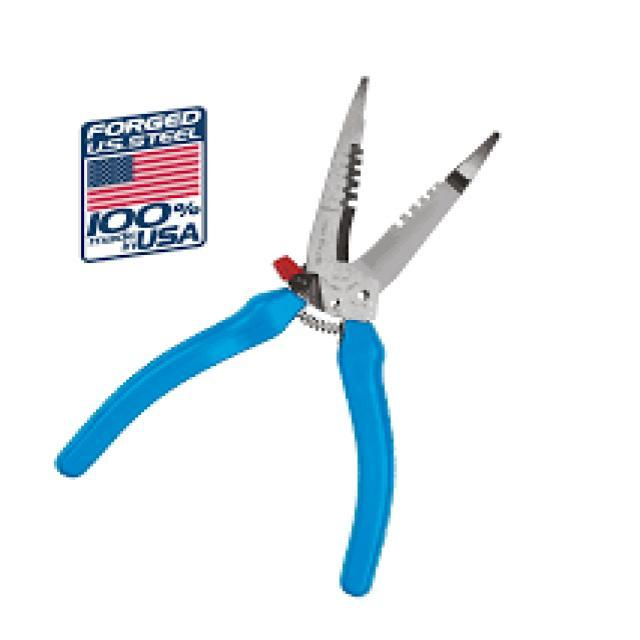pliers: (39, 70, 506, 602)
